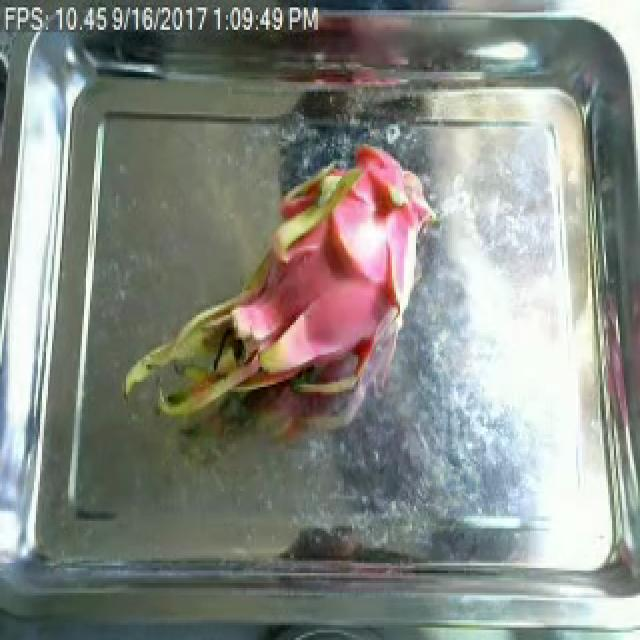fruit: (108, 121, 434, 462)
